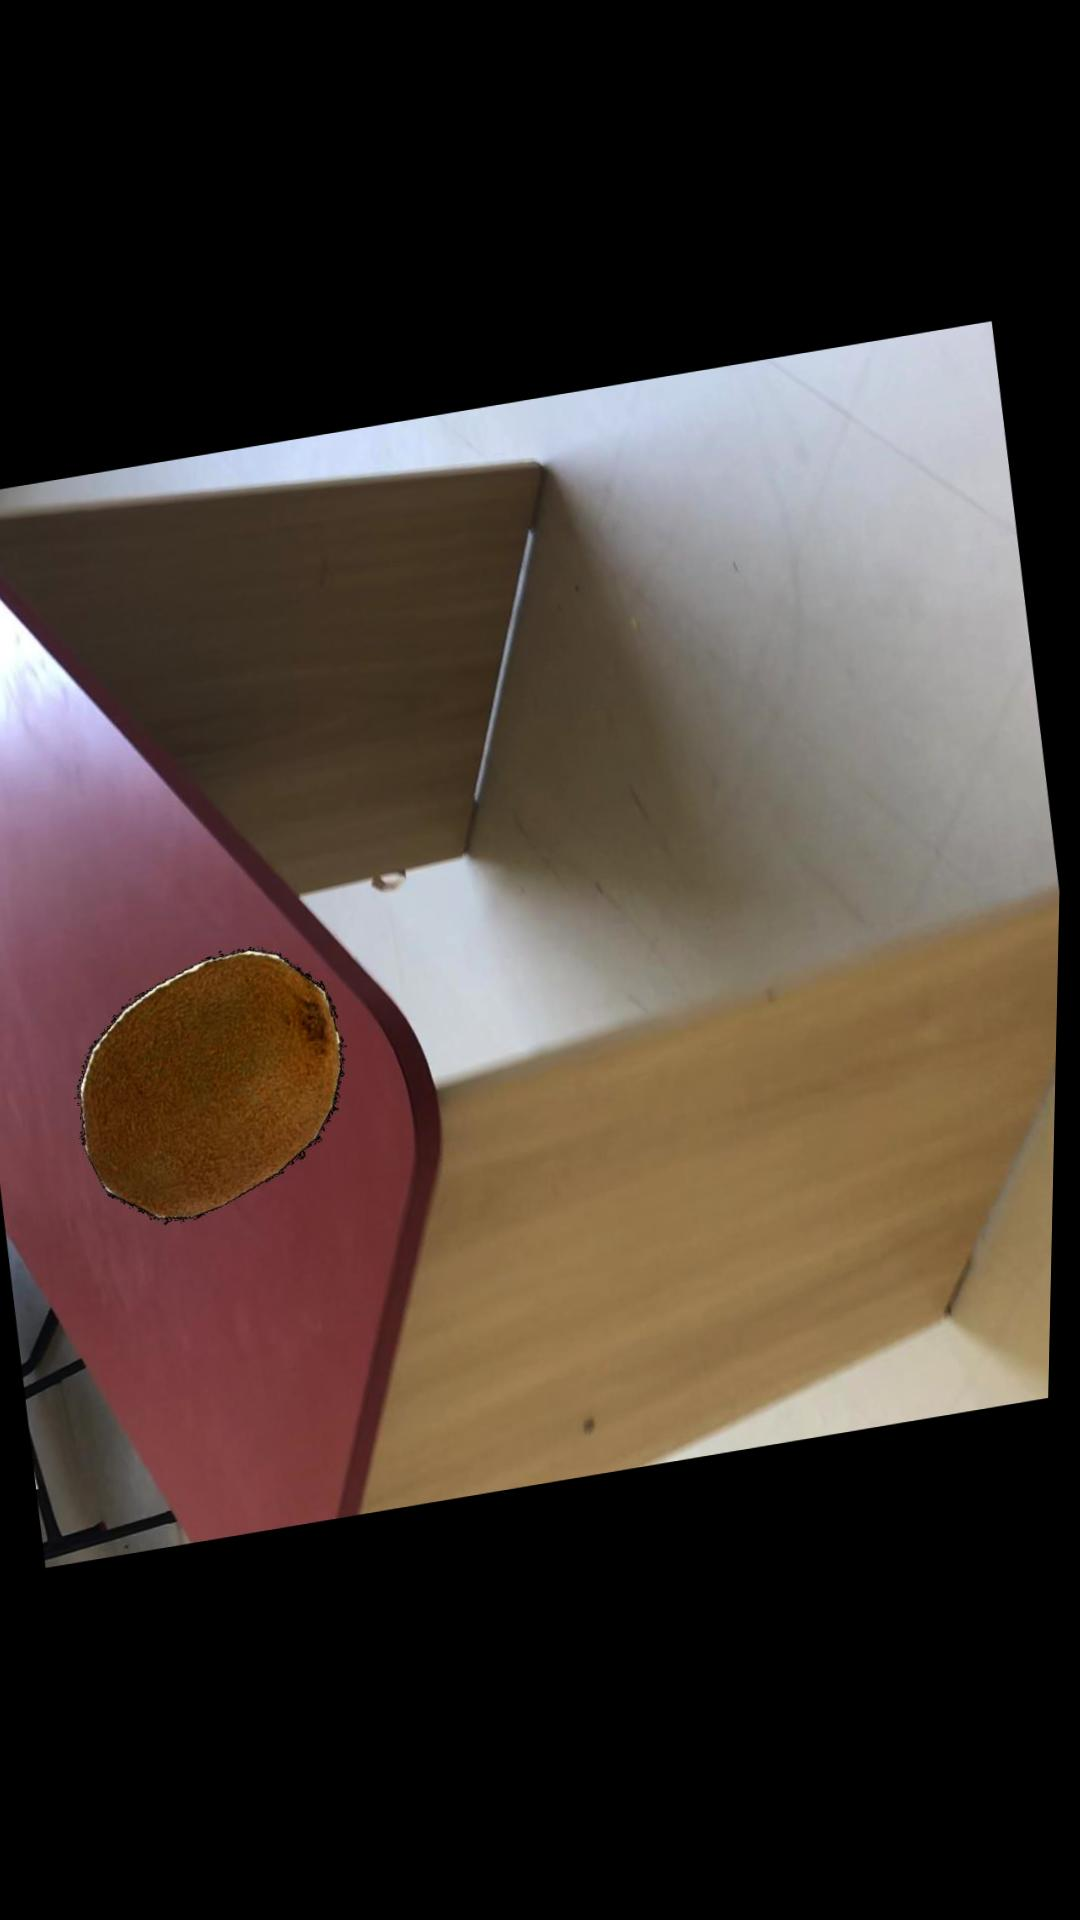kiwi: (82, 949, 347, 1228)
